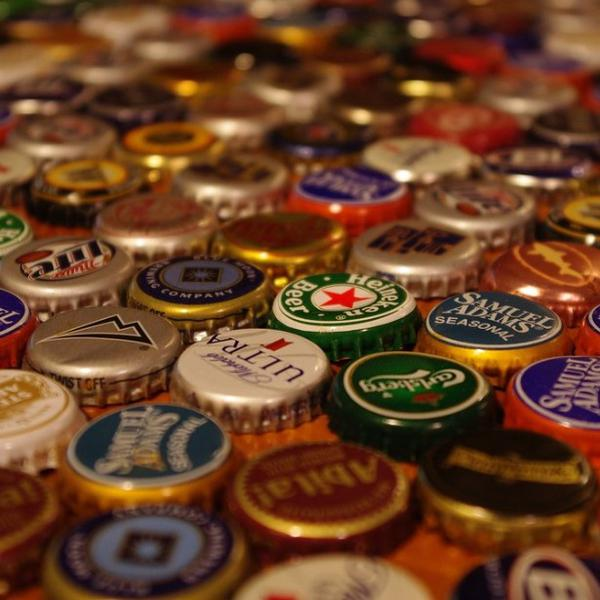heineken: (266, 266, 420, 337)
